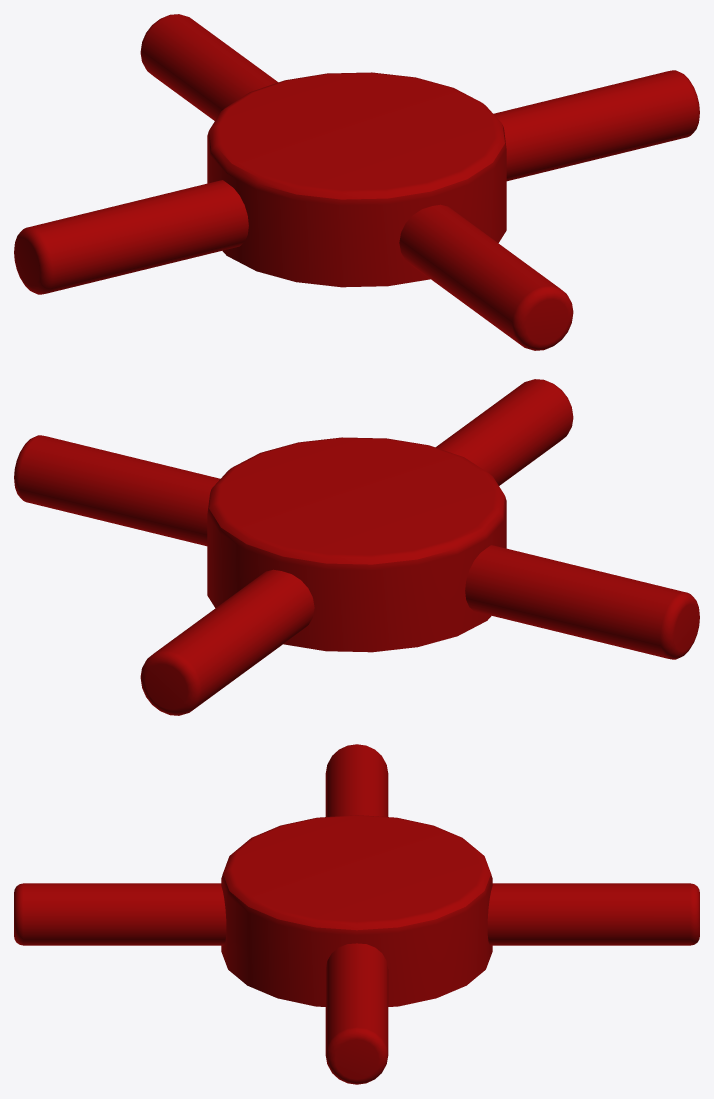
The model's file is Saw_A_Quaternary.fbx.
3 renders of one model, top to bottom at view 1: azimuth 30°, elevation 25°; view 2: azimuth 150°, elevation 25°; view 3: azimuth 270°, elevation 25°, orthographic. The views are drawn at different scales.
Parts seen in each view (by area): view 1: Saw_A_Quaternary; view 2: Saw_A_Quaternary; view 3: Saw_A_Quaternary.
Boxes of the visible parts, x1,y1,x2,y2 form: Saw_A_Quaternary: (14,14,699,350); Saw_A_Quaternary: (14,379,699,715); Saw_A_Quaternary: (14,744,699,1084).
Size of the model in its own units: 149 by 19.99 by 149.
